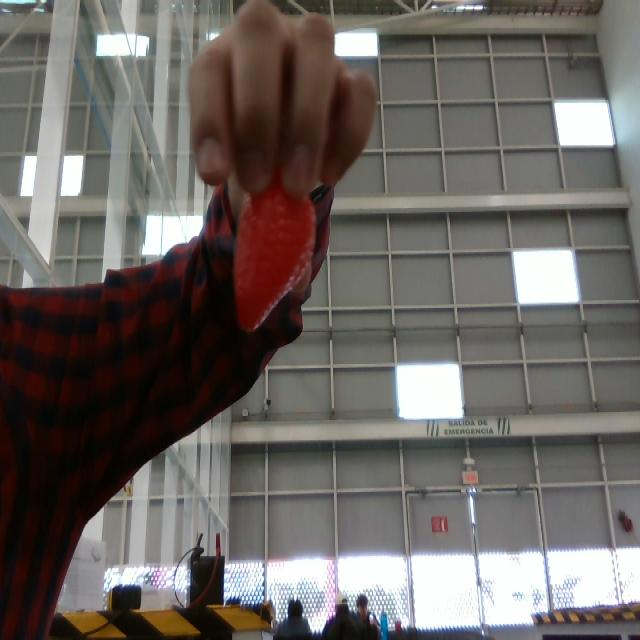grande_roja: (234, 179, 315, 331)
